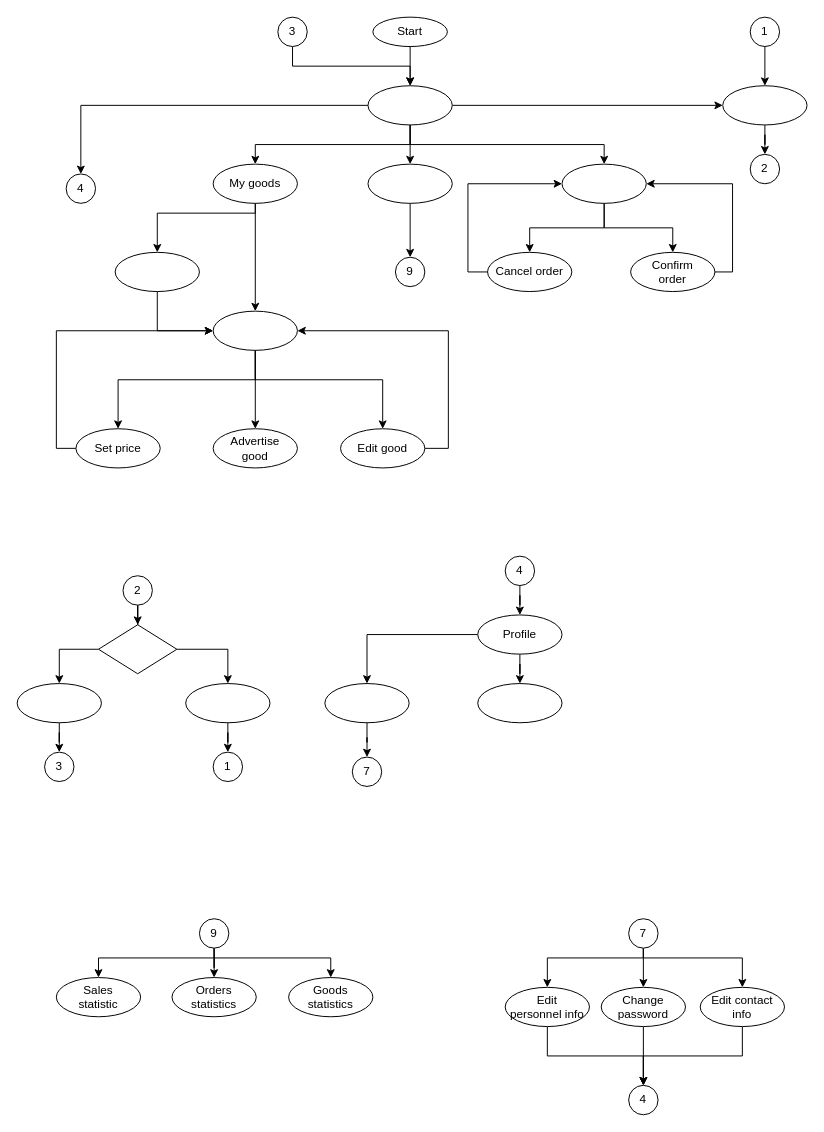
This 824x1132 diagram has some shape labels left out. The centre of each missing label's shape, as x and y in pixels:
Advertisment: point (519, 703)
Create account: point (227, 703)
Edit profile: point (366, 703)
Filter goods: point (156, 271)
Has account: point (137, 649)
Home: point (409, 105)
Login: point (58, 703)
Login/register: point (764, 105)
My orders: point (603, 183)
Statistics: point (409, 183)
View good: point (254, 330)
